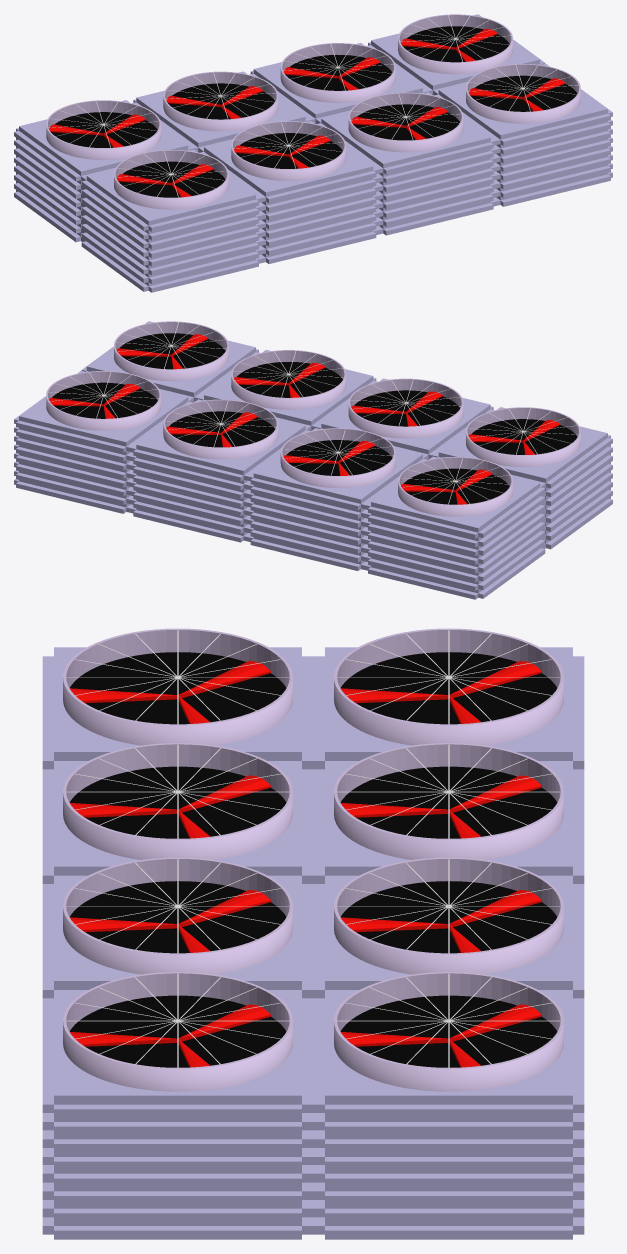
Rendered from KintiniiKattoTuuletinCoolAir2x4.fbx.
The picture shows the model from 3 angles, top to bottom: view 1: azimuth 30°, elevation 25°; view 2: azimuth 150°, elevation 25°; view 3: azimuth 270°, elevation 25°; orthographic projection. The views are drawn at different scales.
Parts seen in each view (by area): view 1: Cube; view 2: Cube; view 3: Cube.
Boxes of the visible parts, <box> form: Cube: <box>14,14,612,292</box>; Cube: <box>14,321,612,599</box>; Cube: <box>42,628,584,1239</box>.
Bounding box in the file's own units: 874 × 144 × 437.
